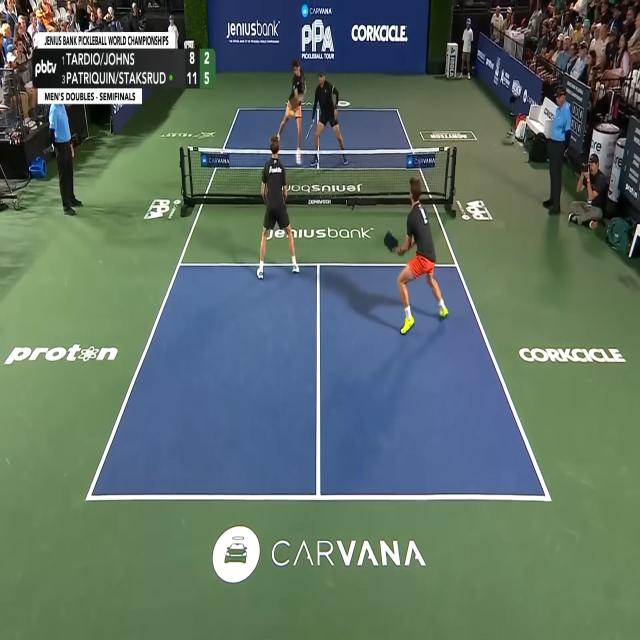ball: (289, 109, 294, 116)
